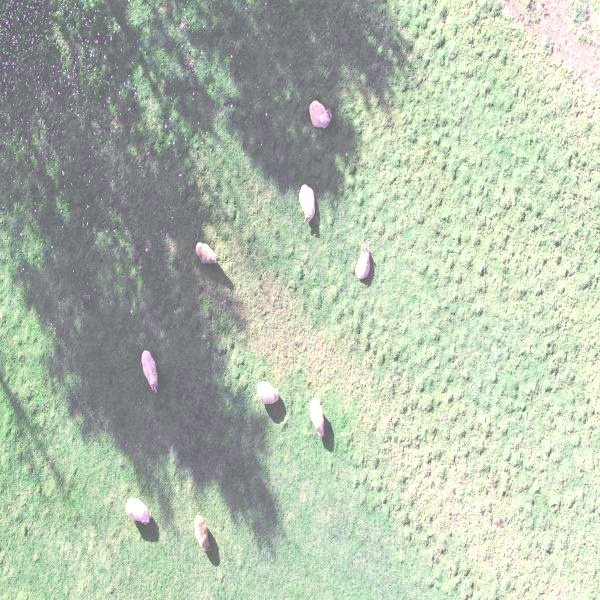sheep: (303, 392, 331, 443), (138, 346, 160, 397), (119, 494, 149, 530), (296, 176, 320, 220), (257, 374, 283, 413), (350, 241, 377, 277), (307, 97, 332, 132), (192, 509, 211, 555), (191, 241, 216, 272)
